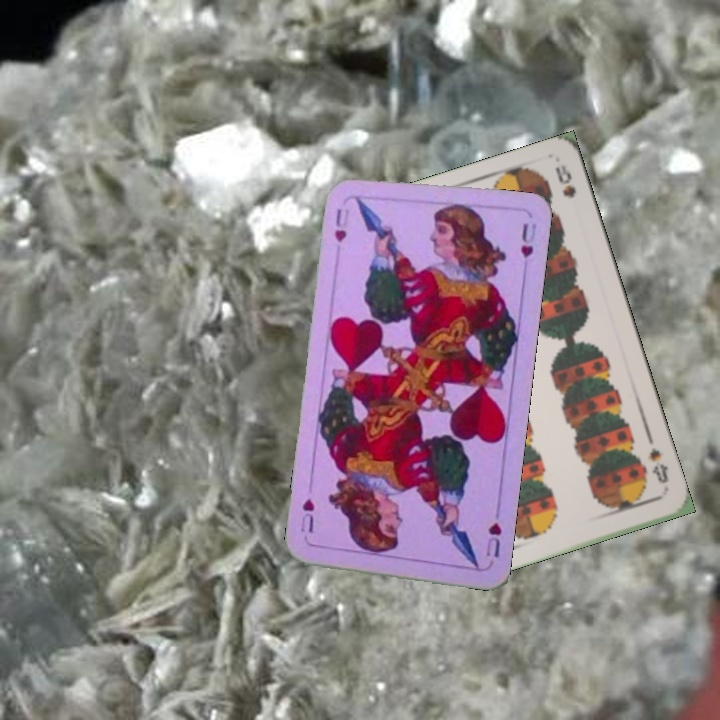HU: (479, 518, 505, 563), (331, 204, 353, 245)
S8: (644, 443, 671, 486)
